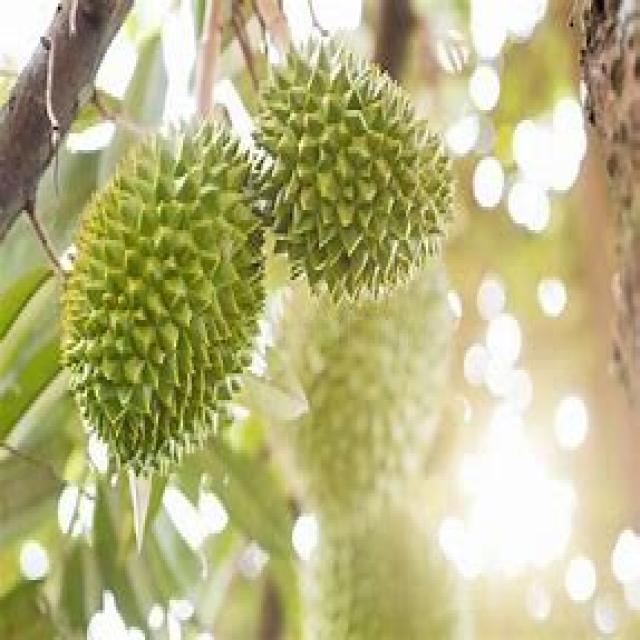immature: (60, 108, 265, 479), (249, 33, 457, 305)
